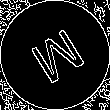M_SE: (22, 21, 88, 88)
